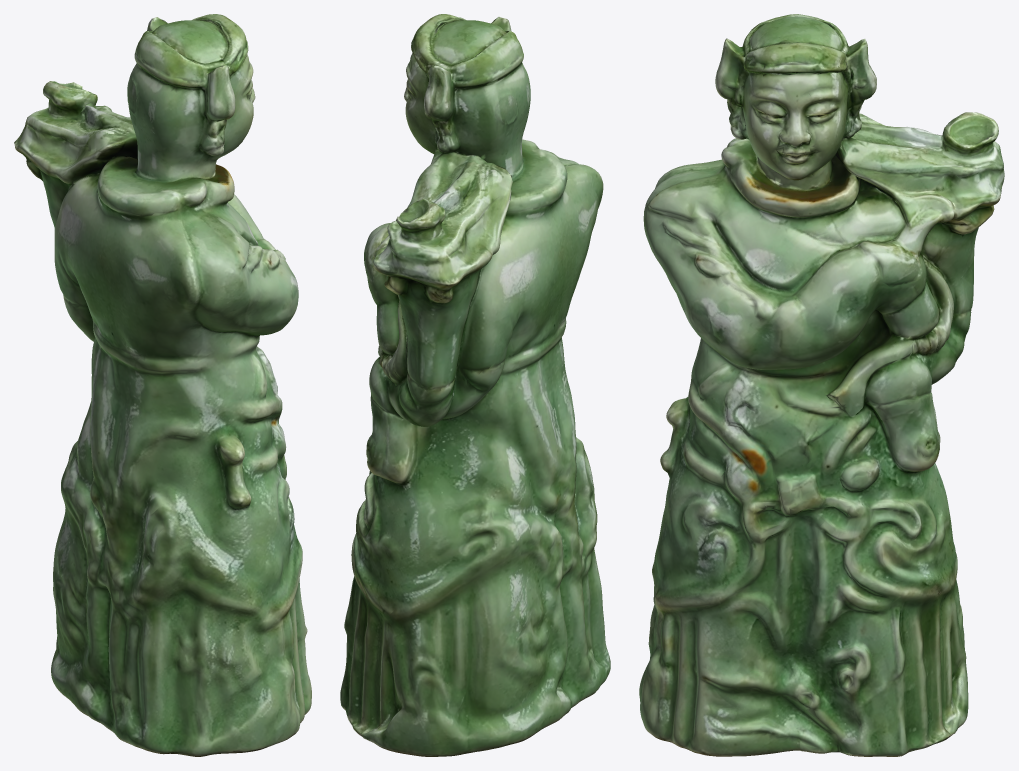
File: longquan-figure-web-mobile.glb
3 renders of one model, left to right at view 1: azimuth 30°, elevation 25°; view 2: azimuth 150°, elevation 25°; view 3: azimuth 270°, elevation 25°, orthographic. The views are drawn at different scales.
Parts seen in each view (by area): view 1: tripo_node_10291925-597c-4ab6-91cc-984cd73bce15; view 2: tripo_node_10291925-597c-4ab6-91cc-984cd73bce15; view 3: tripo_node_10291925-597c-4ab6-91cc-984cd73bce15.
Boxes of the visible parts, bbox=[...] form: tripo_node_10291925-597c-4ab6-91cc-984cd73bce15: bbox=[14, 14, 311, 756]; tripo_node_10291925-597c-4ab6-91cc-984cd73bce15: bbox=[340, 14, 610, 756]; tripo_node_10291925-597c-4ab6-91cc-984cd73bce15: bbox=[639, 14, 1004, 756].
Size of the model in its own units: 0.2875 by 0.9794 by 0.4645.
Materials: 1 (1 with a texture image).
